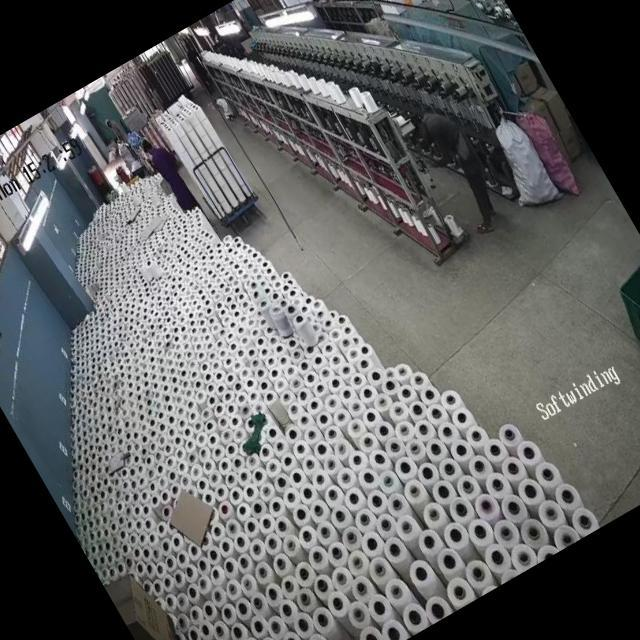person: (411, 93, 511, 235), (142, 132, 194, 205), (99, 108, 130, 148)
